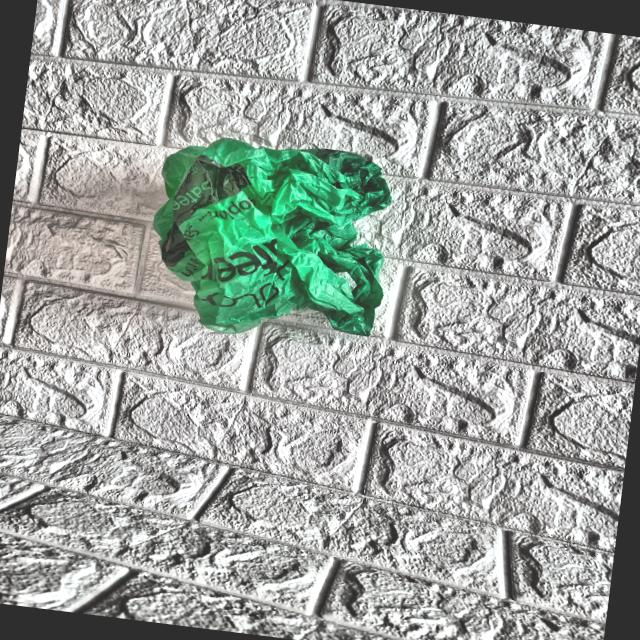plastic bag: (130, 112, 436, 366)
